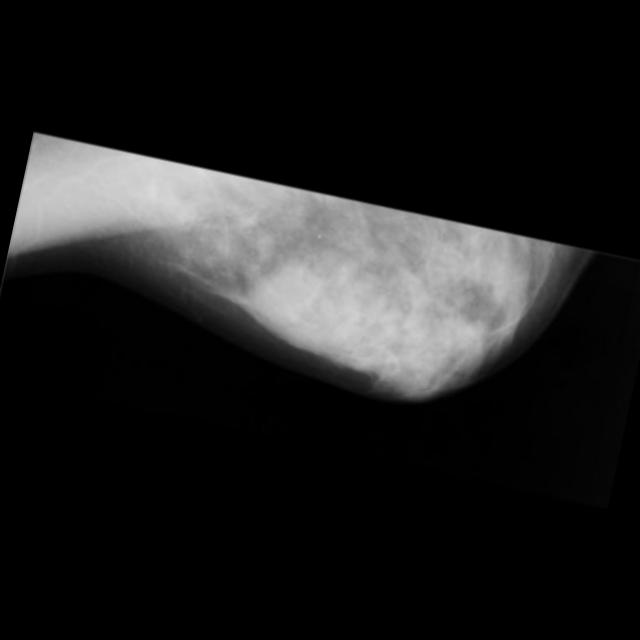CIRC: (252, 255, 323, 326)
